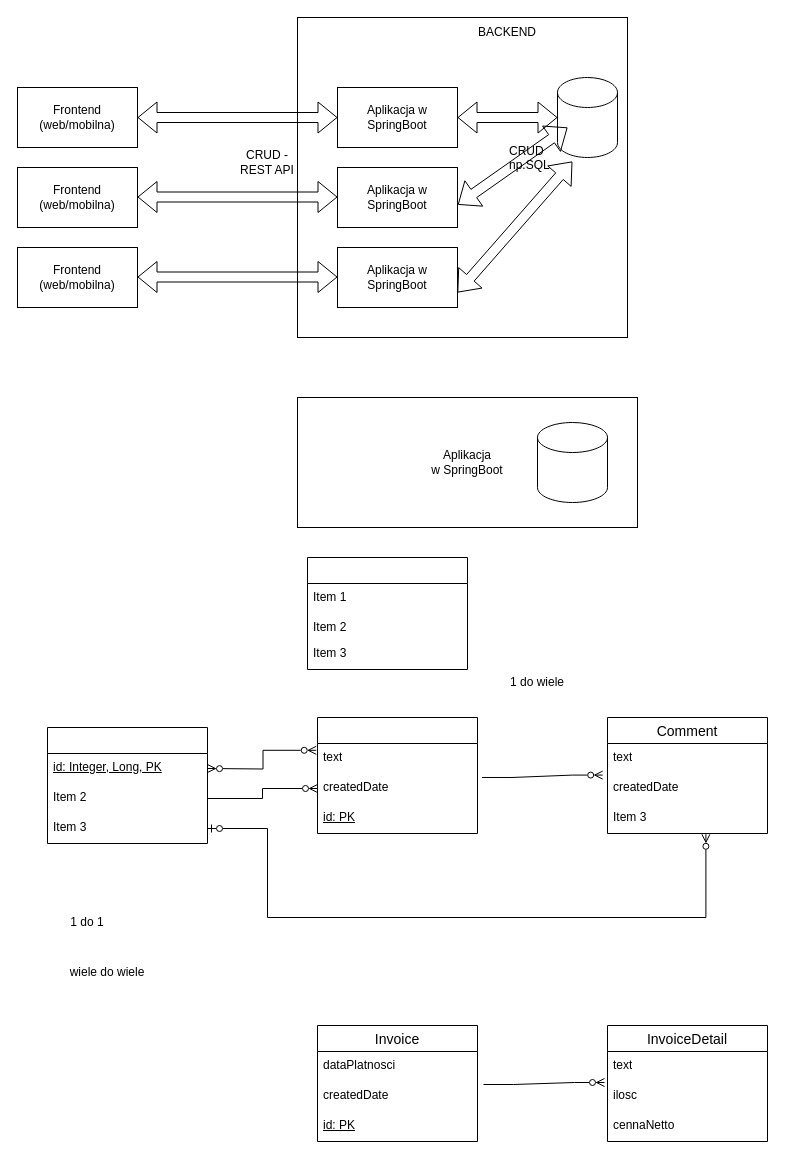
This 785x1162 diagram has some shape labels left out. The shapes that lost their labels are listed below. From the top down, each one's box as (x1, y1, x2, y2) in pixels, then its label:
(556, 76, 618, 158): DB
(536, 422, 608, 502): H2 -DB embedded
(306, 556, 468, 670): Group
(46, 726, 208, 844): User
(316, 716, 478, 834): Post
